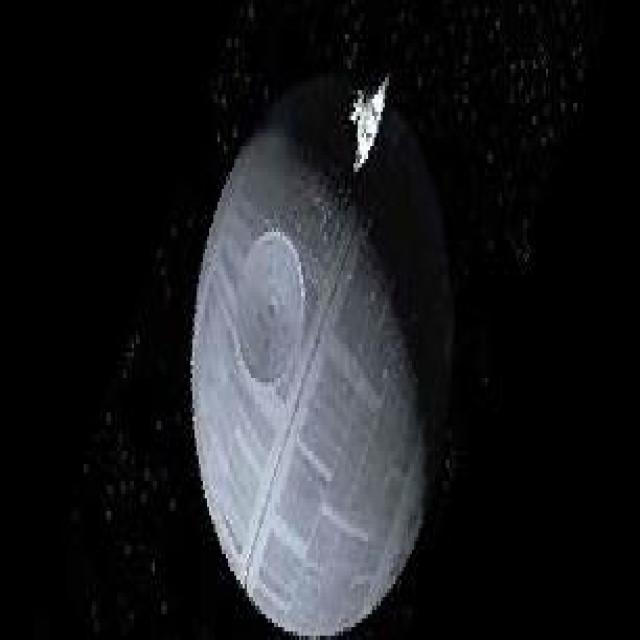Death Star: (193, 94, 461, 630)
